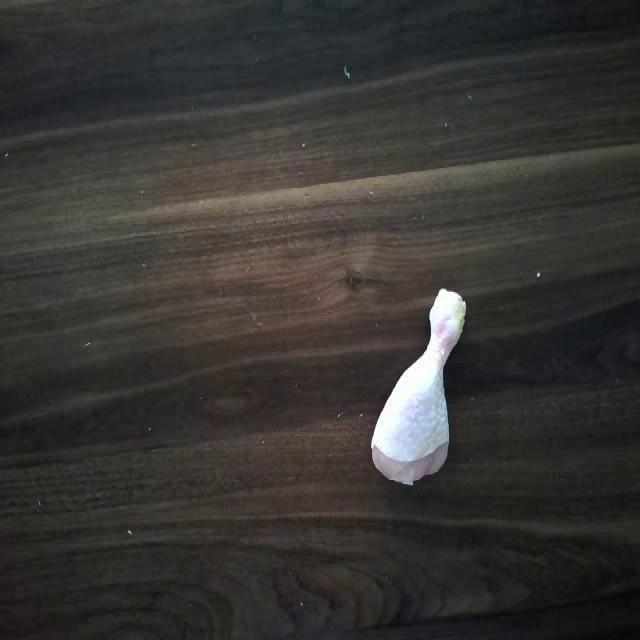leg: (366, 284, 473, 498)
